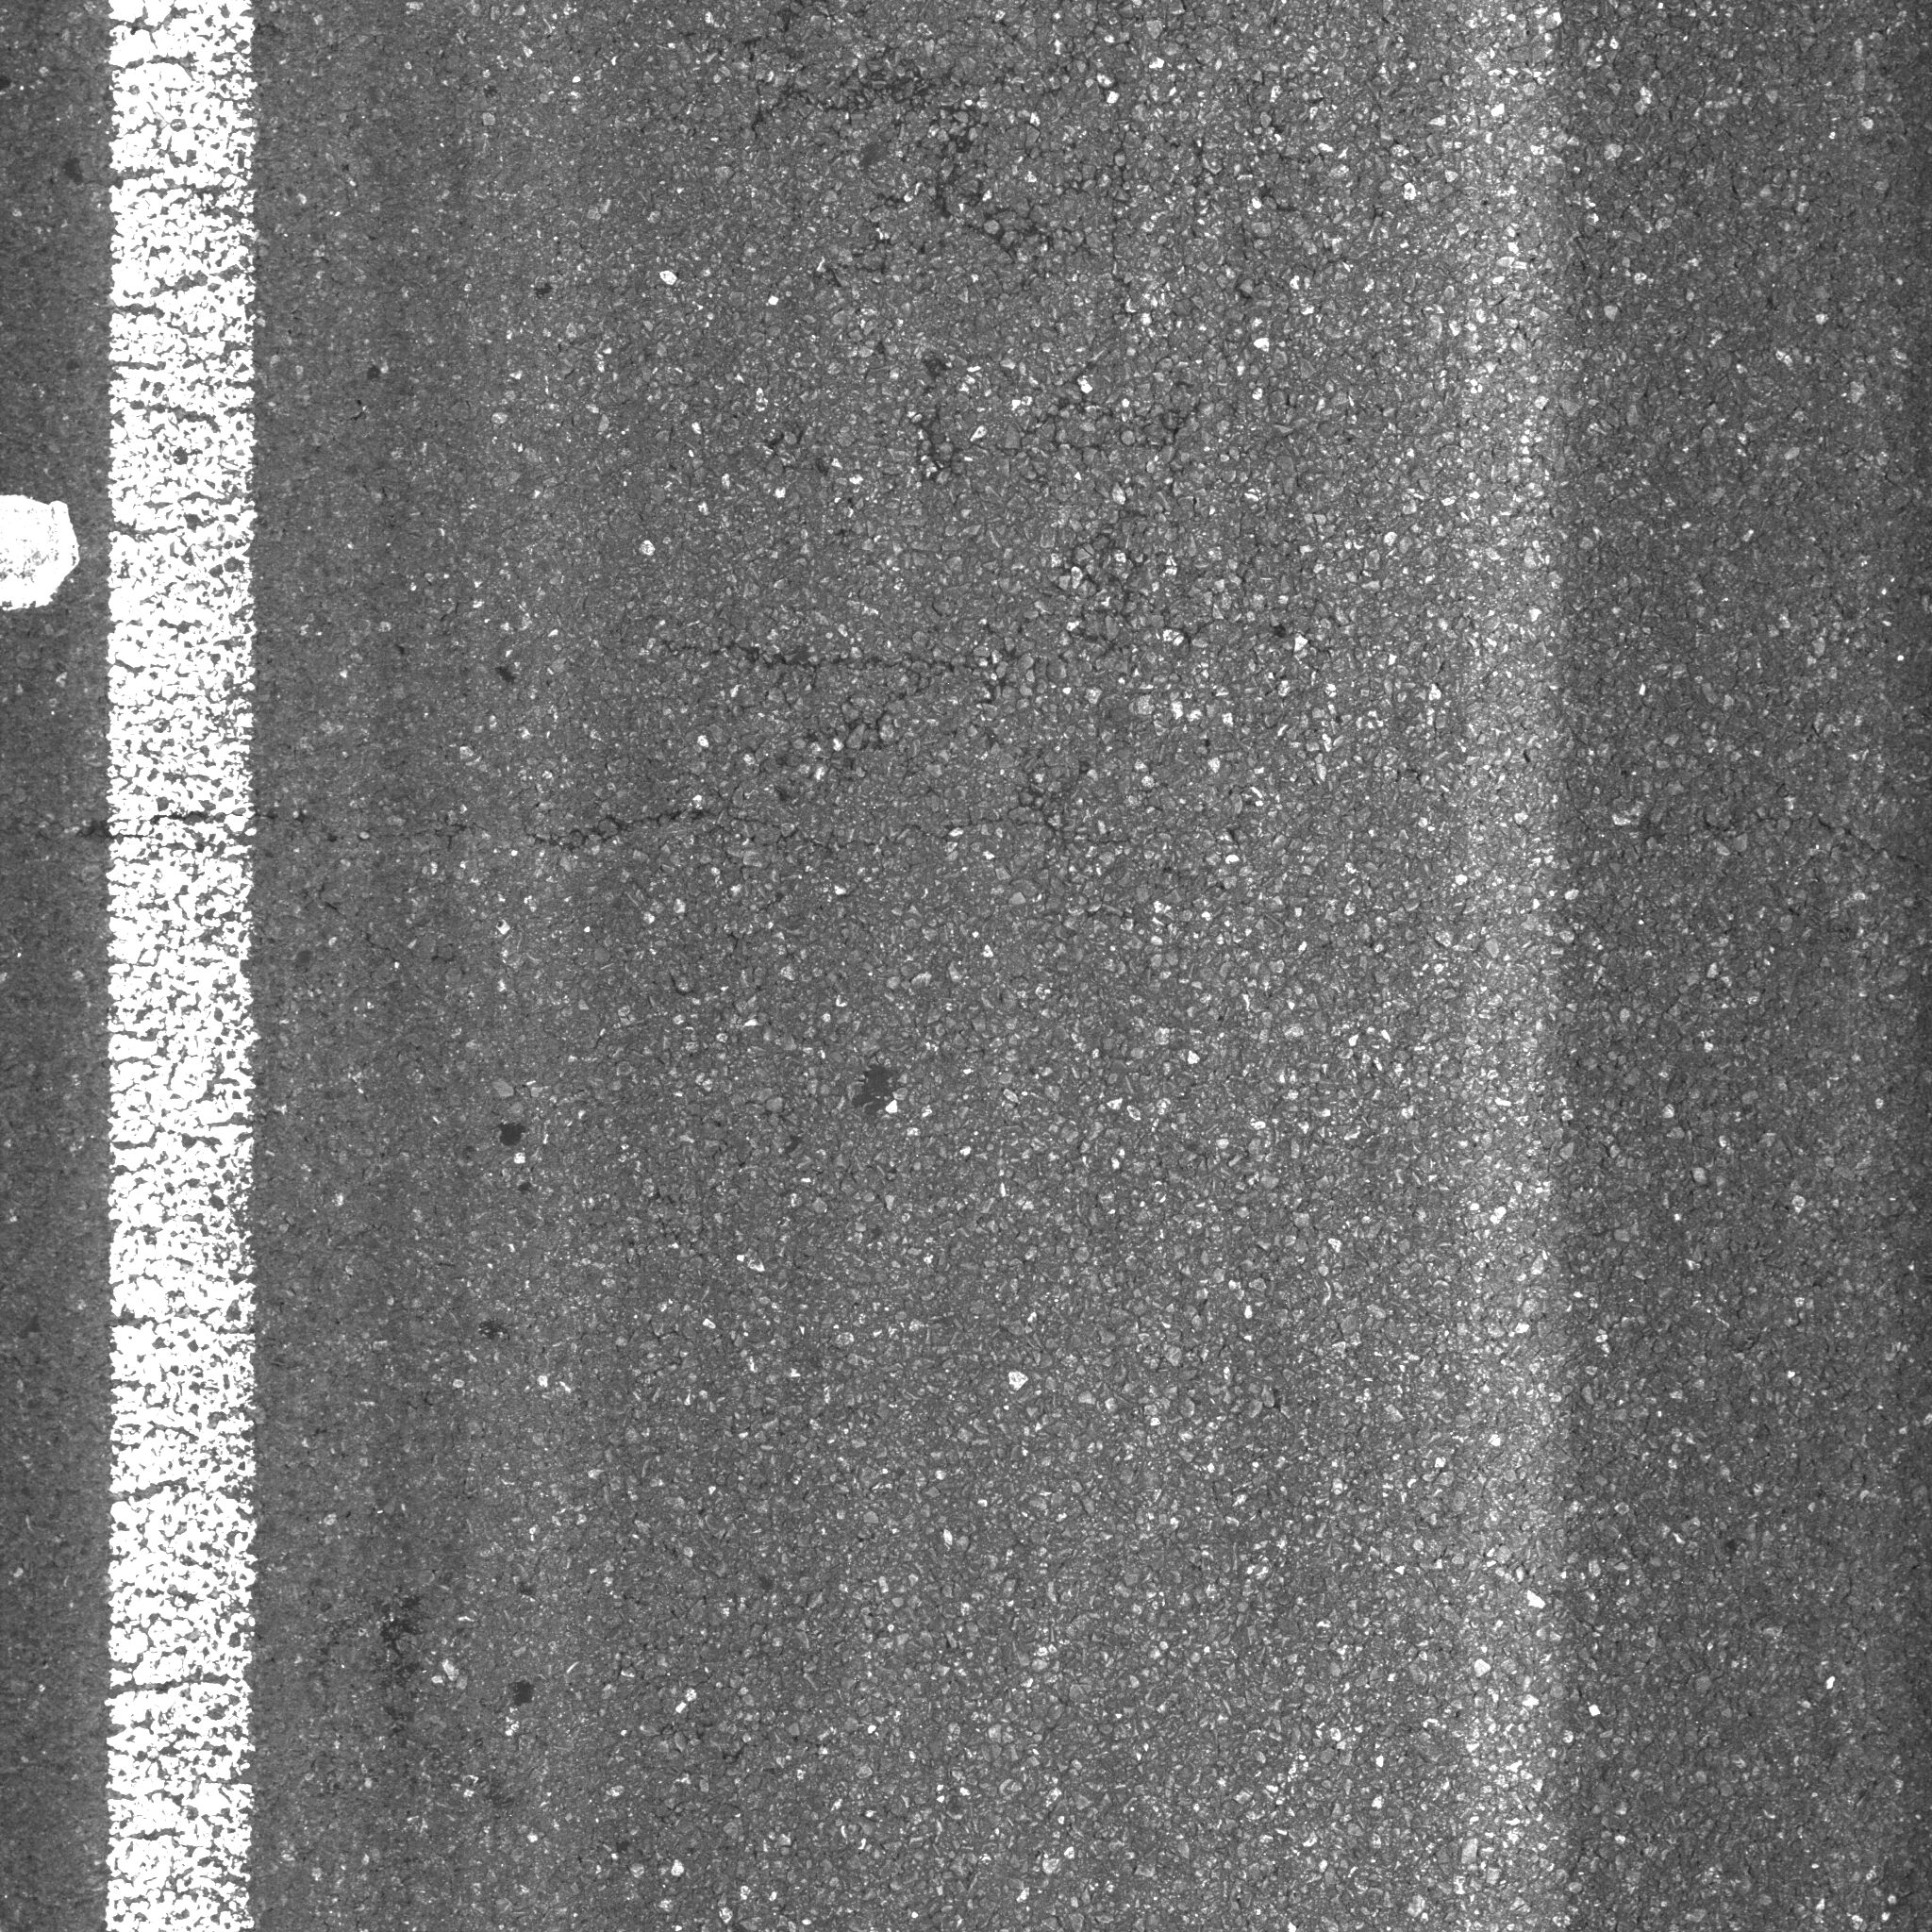transeverse: (488, 626, 993, 867)
